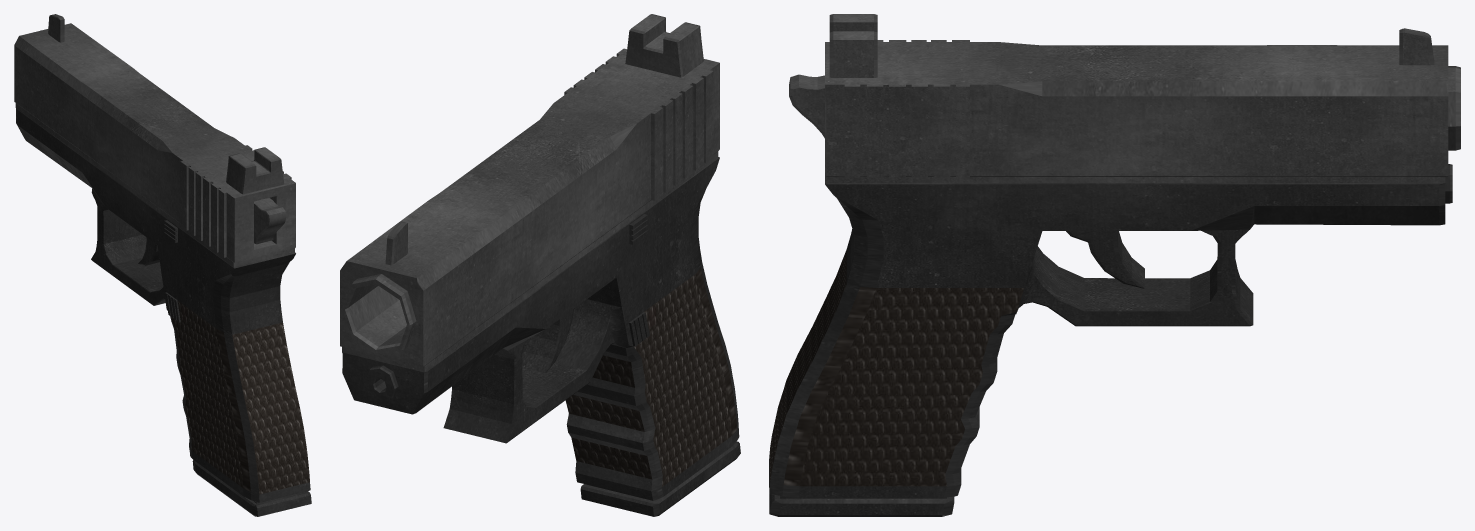
Rendered from gun.FBX.
3 renders of one model, left to right at view 1: azimuth 30°, elevation 25°; view 2: azimuth 150°, elevation 25°; view 3: azimuth 270°, elevation 25°, orthographic. The views are drawn at different scales.
Parts seen in each view (by area): view 1: Gun; view 2: Gun; view 3: Gun.
Boxes of the visible parts, <box> form: Gun: <box>14,14,311,516</box>; Gun: <box>340,14,740,516</box>; Gun: <box>769,14,1460,516</box>.
Size of the model in its own units: 0.0498 by 0.2361 by 0.3135.
3 materials, 3 textured.
